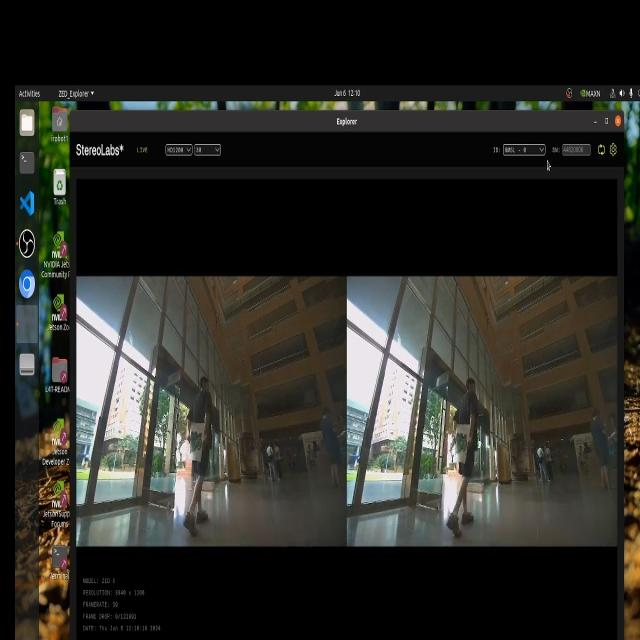green: (452, 432, 472, 462), (182, 438, 204, 450)
